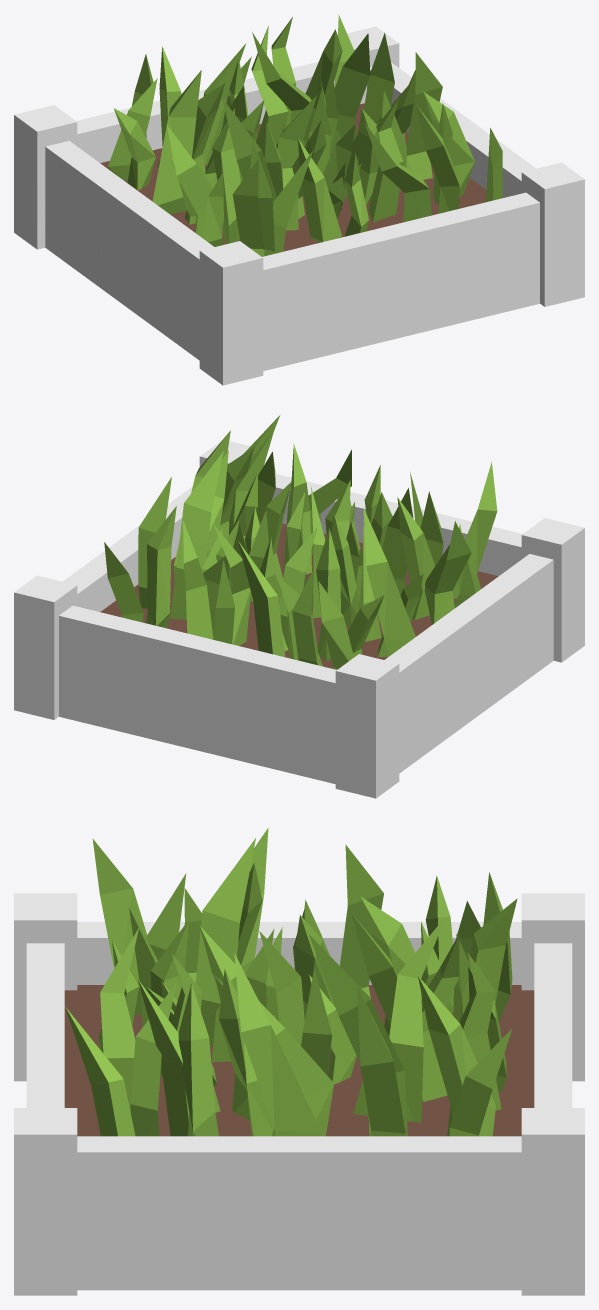
File: patch-of-grass.glb
3 renders of one model, top to bottom at view 1: azimuth 30°, elevation 25°; view 2: azimuth 150°, elevation 25°; view 3: azimuth 270°, elevation 25°, orthographic. The views are drawn at different scales.
Parts seen in each view (by area): view 1: group1825441963, group299579147, group1635915225, group205908503, group1031227369, group1098073629, group497123852, group1601602894, group187804729, group2102124817, group1393550035, group988672051 (+29 smaller); view 2: group1825441963, group299579147, group1635915225, group533036821, group876790074, group1393550035, group1938113023, group497123852, group2102124817, group1116982127, group692401385, group1312983693 (+30 smaller); view 3: group1825441963, group1031227369, group392952814, group1978993927, group1366046095, group836964422, group533036821, group1723529804, group1098073629, group2102124817, group1635915225, group1601602894 (+30 smaller).
Part boxes in pixels (left/top/right/bottom): group1825441963: left=14, top=26, right=584, bottom=385; group299579147: left=152, top=70, right=201, bottom=214; group1635915225: left=331, top=33, right=370, bottom=153; group205908503: left=298, top=138, right=341, bottom=242; group1031227369: left=406, top=52, right=442, bottom=179; group1098073629: left=364, top=122, right=431, bottom=222; group497123852: left=212, top=108, right=240, bottom=243; group1601602894: left=415, top=104, right=459, bottom=213; group187804729: left=368, top=99, right=403, bottom=222; group2102124817: left=232, top=159, right=264, bottom=256; group1393550035: left=166, top=125, right=223, bottom=237; group988672051: left=114, top=108, right=155, bottom=190; group1825441963: left=14, top=440, right=584, bottom=798; group299579147: left=363, top=507, right=415, bottom=656; group1635915225: left=170, top=451, right=223, bottom=619; group533036821: left=145, top=506, right=176, bottom=628; group876790074: left=237, top=540, right=285, bottom=657; group1393550035: left=424, top=521, right=471, bottom=624; group1938113023: left=183, top=520, right=213, bottom=639; group497123852: left=397, top=497, right=434, bottom=620; group2102124817: left=452, top=461, right=497, bottom=598; group1116982127: left=213, top=524, right=250, bottom=645; group692401385: left=292, top=569, right=322, bottom=666; group1312983693: left=318, top=581, right=353, bottom=669; group1825441963: left=14, top=893, right=584, bottom=1295; group1031227369: left=234, top=953, right=321, bottom=1136; group392952814: left=389, top=916, right=445, bottom=1122; group1978993927: left=195, top=838, right=255, bottom=1044; group1366046095: left=357, top=985, right=405, bottom=1136; group836964422: left=178, top=983, right=218, bottom=1136; group533036821: left=418, top=976, right=495, bottom=1136; group1723529804: left=65, top=1006, right=135, bottom=1136; group1098073629: left=100, top=928, right=138, bottom=1112; group2102124817: left=92, top=839, right=146, bottom=1014; group1635915225: left=309, top=934, right=407, bottom=1136; group1601602894: left=130, top=981, right=177, bottom=1136.
Size of the model in its own units: 0.45 by 0.2519 by 0.45.
